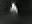person: (11, 3, 19, 19)
